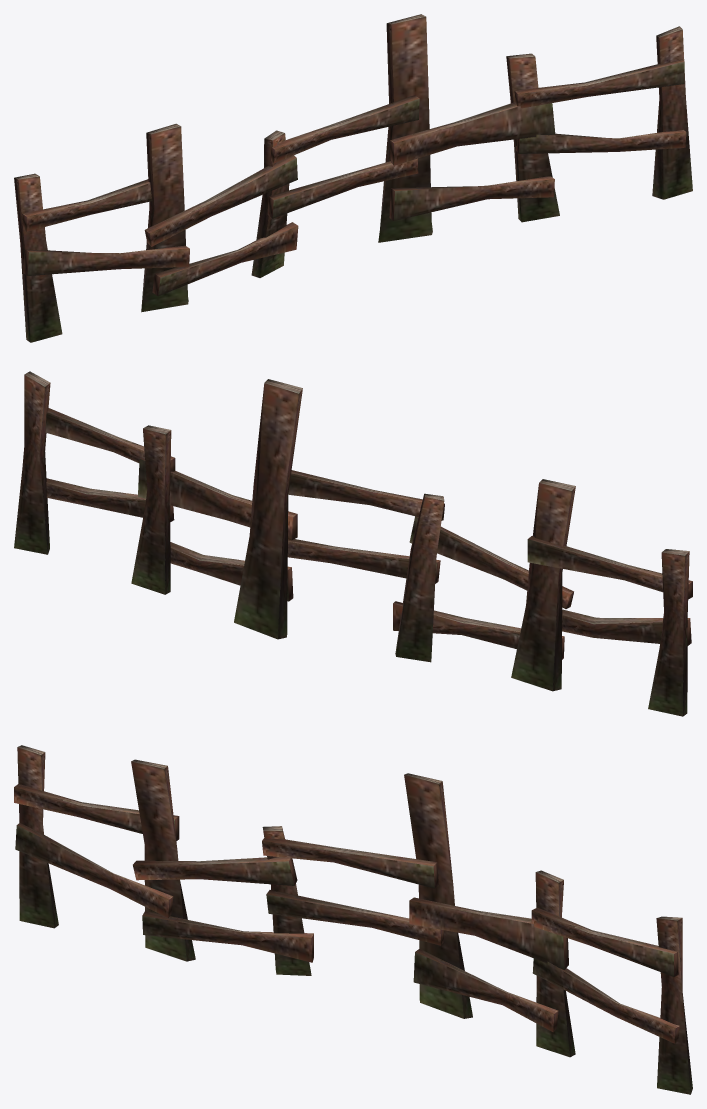
Rendered from cj_graveyard_fence01.glb.
3 renders of one model, top to bottom at view 1: azimuth 30°, elevation 25°; view 2: azimuth 150°, elevation 25°; view 3: azimuth 330°, elevation 25°, orthographic. The views are drawn at different scales.
Visible parts, largest first — view 1: cj_graveyard_fence01; view 2: cj_graveyard_fence01; view 3: cj_graveyard_fence01.
Boxes of the visible parts, left/top/right/bottom form: cj_graveyard_fence01: left=14, top=14, right=692, bottom=342; cj_graveyard_fence01: left=14, top=371, right=692, bottom=716; cj_graveyard_fence01: left=14, top=745, right=692, bottom=1094.
Size of the model in its own units: 10.62 by 3.52 by 0.9823.
Materials: 1 (1 with a texture image).
